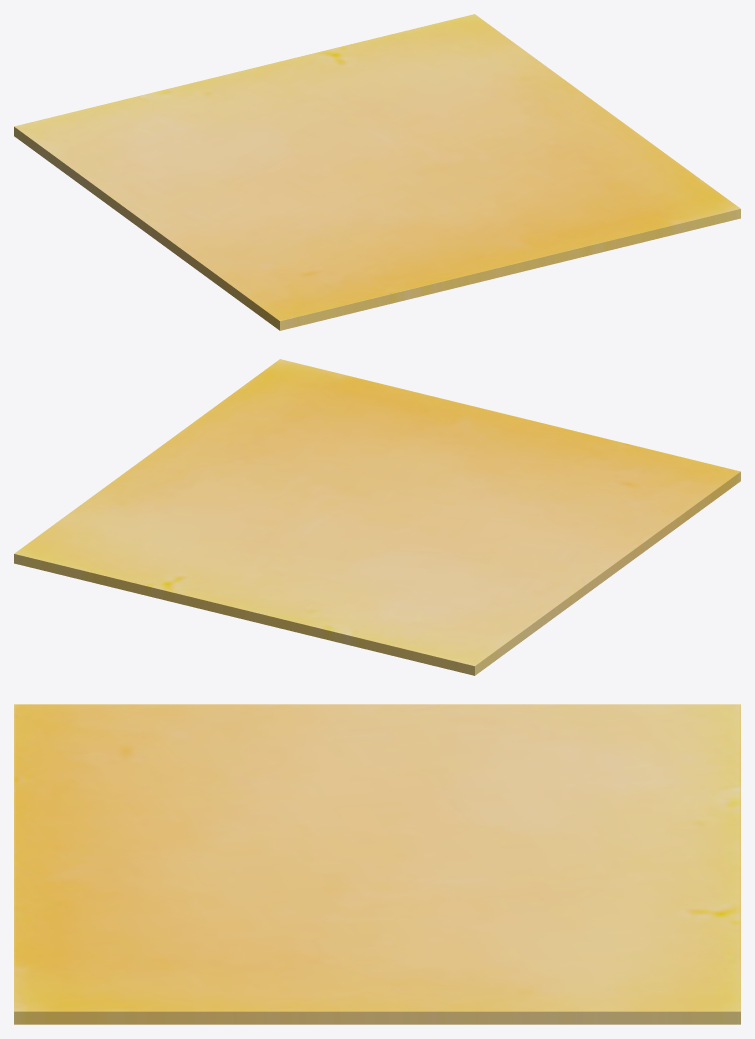
File: cheese.glb
3 renders of one model, top to bottom at view 1: azimuth 30°, elevation 25°; view 2: azimuth 150°, elevation 25°; view 3: azimuth 270°, elevation 25°, orthographic. The views are drawn at different scales.
Visible parts, largest first — view 1: cheese; view 2: cheese; view 3: cheese.
Boxes of the visible parts, x1,y1,x2,y2 form: cheese: (14,14,740,330); cheese: (14,359,740,675); cheese: (14,704,740,1024).
Bounding box in the file's own units: 2 × 0.04 × 2.
1 material, 1 textured.
